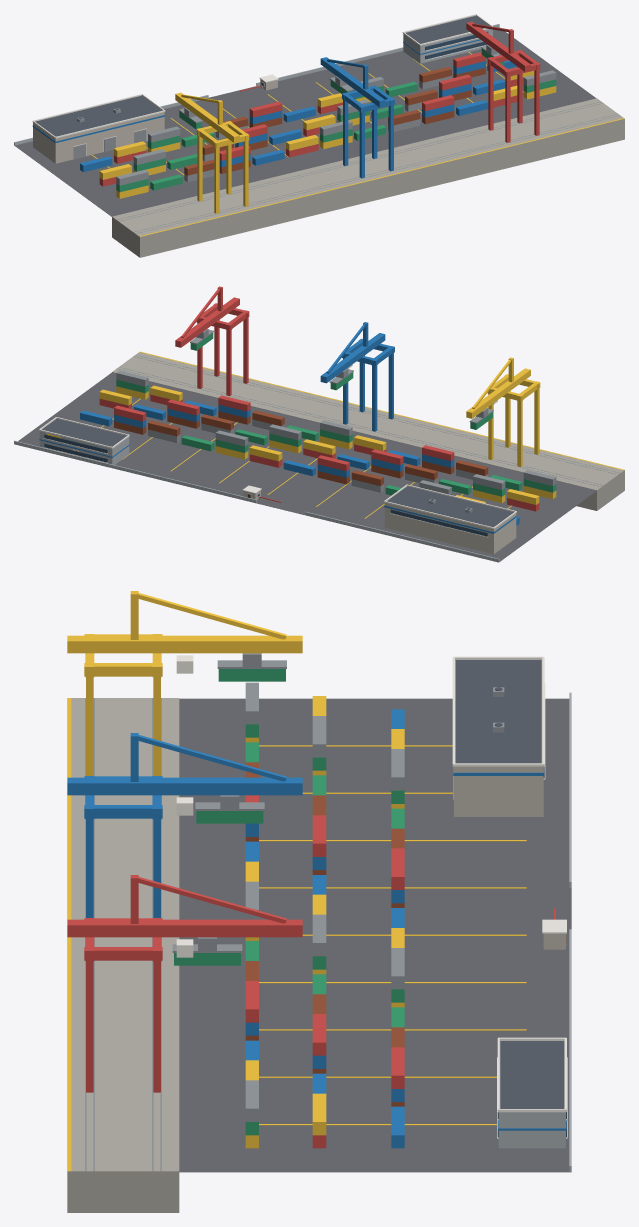
File: seaport.glb
The picture shows the model from 3 angles, top to bottom: view 1: azimuth 30°, elevation 25°; view 2: azimuth 150°, elevation 25°; view 3: azimuth 270°, elevation 25°; orthographic projection. The views are drawn at different scales.
Visible parts, largest first — view 1: quay, yard, crane_leg (×9), roof (×2), warehouse, crane_girder (×3), crane_rail (×4), office, quay_edge, boundary_wall; view 2: yard, quay, roof (×2), warehouse, crane_leg (×6), crane_girder (×3), crane_rail (×4), boundary_wall (×2), office, quay_edge, window_band; view 3: yard, quay, roof (×2), crane_girder (×3), warehouse, crane_tie (×3), crane_portal (×3), office, crane_leg (×2), container (×2), quay_edge.
Part boxes in pixels (x1,y1,x2,y2): quay: (112, 98, 624, 257); yard: (14, 27, 596, 216); crane_leg (×9): (197, 64, 539, 213); roof (×2): (35, 16, 489, 136); warehouse: (33, 112, 164, 163); crane_girder (×3): (175, 21, 530, 142); crane_rail (×4): (116, 101, 620, 233); office: (403, 29, 492, 63); quay_edge: (139, 118, 624, 236); boundary_wall: (256, 24, 499, 86); yard: (15, 372, 596, 562); quay: (112, 352, 624, 510); roof (×2): (42, 418, 513, 527); warehouse: (384, 503, 516, 554); crane_leg (×6): (226, 317, 539, 466); crane_girder (×3): (175, 297, 530, 418); crane_rail (×4): (116, 354, 620, 486); boundary_wall (×2): (14, 440, 499, 562); office: (39, 431, 129, 464); quay_edge: (139, 351, 624, 470); window_band: (390, 509, 487, 536); yard: (179, 698, 571, 1172); quay: (67, 698, 179, 1212); roof (×2): (455, 660, 564, 1108); crane_girder (×3): (67, 635, 302, 937); warehouse: (454, 660, 543, 816); crane_tie (×3): (138, 593, 286, 923); crane_portal (×3): (84, 663, 162, 960); office: (498, 1041, 565, 1148); crane_leg (×2): (86, 961, 160, 1092); container (×2): (196, 669, 285, 823); quay_edge: (68, 698, 71, 1171).
Bounding box in the file's own units: 200 × 47.6 × 90.
